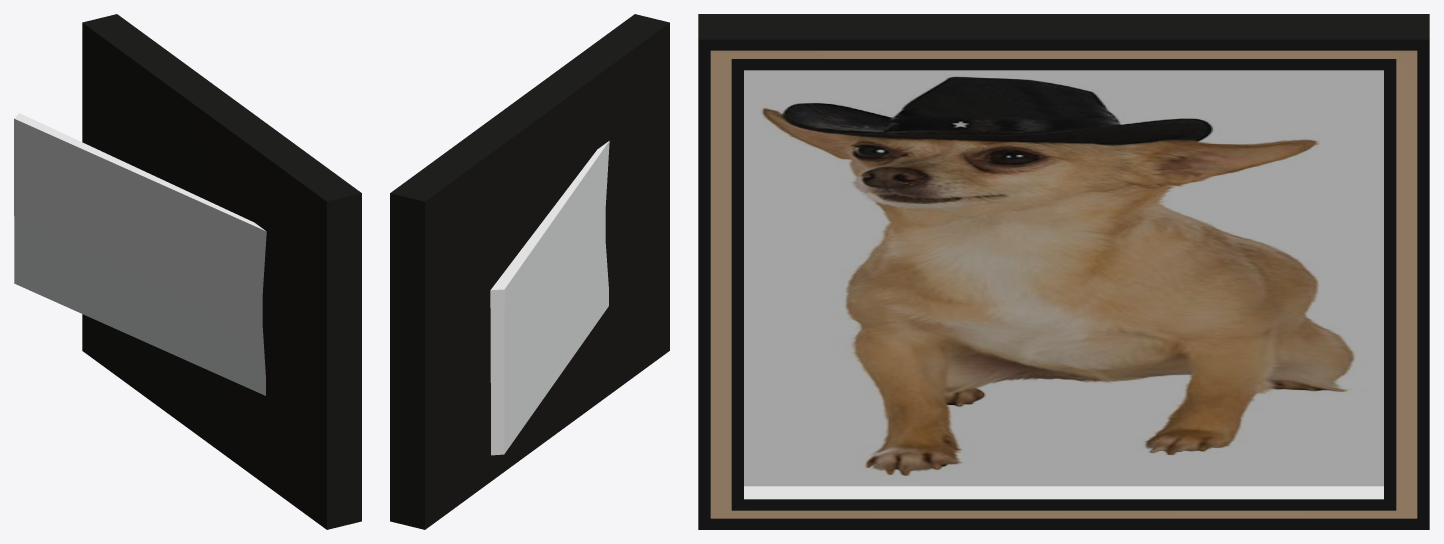
The model's file is dog.fbx.
The picture shows the model from 3 angles, left to right: view 1: azimuth 30°, elevation 25°; view 2: azimuth 150°, elevation 25°; view 3: azimuth 270°, elevation 25°; orthographic projection. The views are drawn at different scales.
Visible parts, largest first — view 1: Cube.001; view 2: Cube.001; view 3: Cube.001.
Boxes of the visible parts, x1,y1,x2,y2 form: Cube.001: [14, 14, 361, 529]; Cube.001: [390, 14, 669, 529]; Cube.001: [698, 14, 1429, 529].
Bounding box in the file's own units: 179 × 697 × 515.
Materials: 1 (1 with a texture image).
